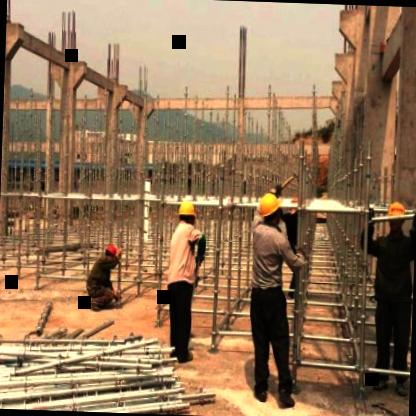helmet: (257, 192, 282, 230), (387, 199, 410, 233), (176, 198, 197, 234), (104, 242, 118, 264)
